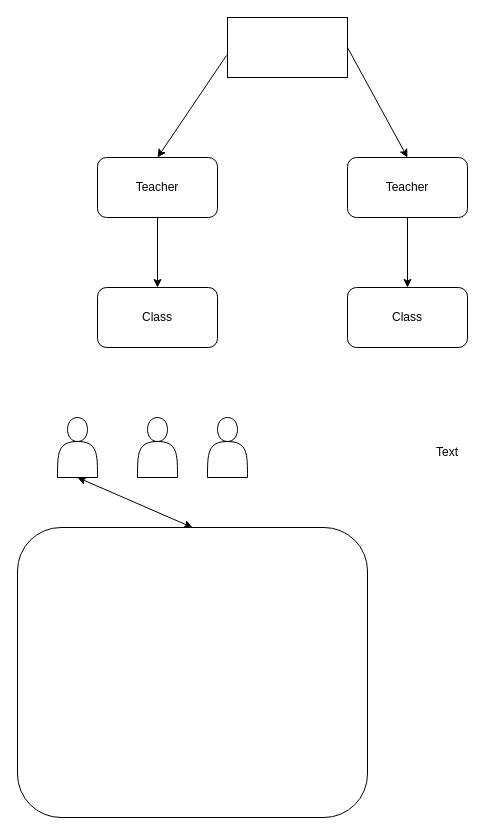
Image size: 495x835. Some labels were removed from this diagram. Each missing label, with the centre of its shape:
Admin: the point at 287,47
Student Name Student Number Id Scores: the point at 192,672
